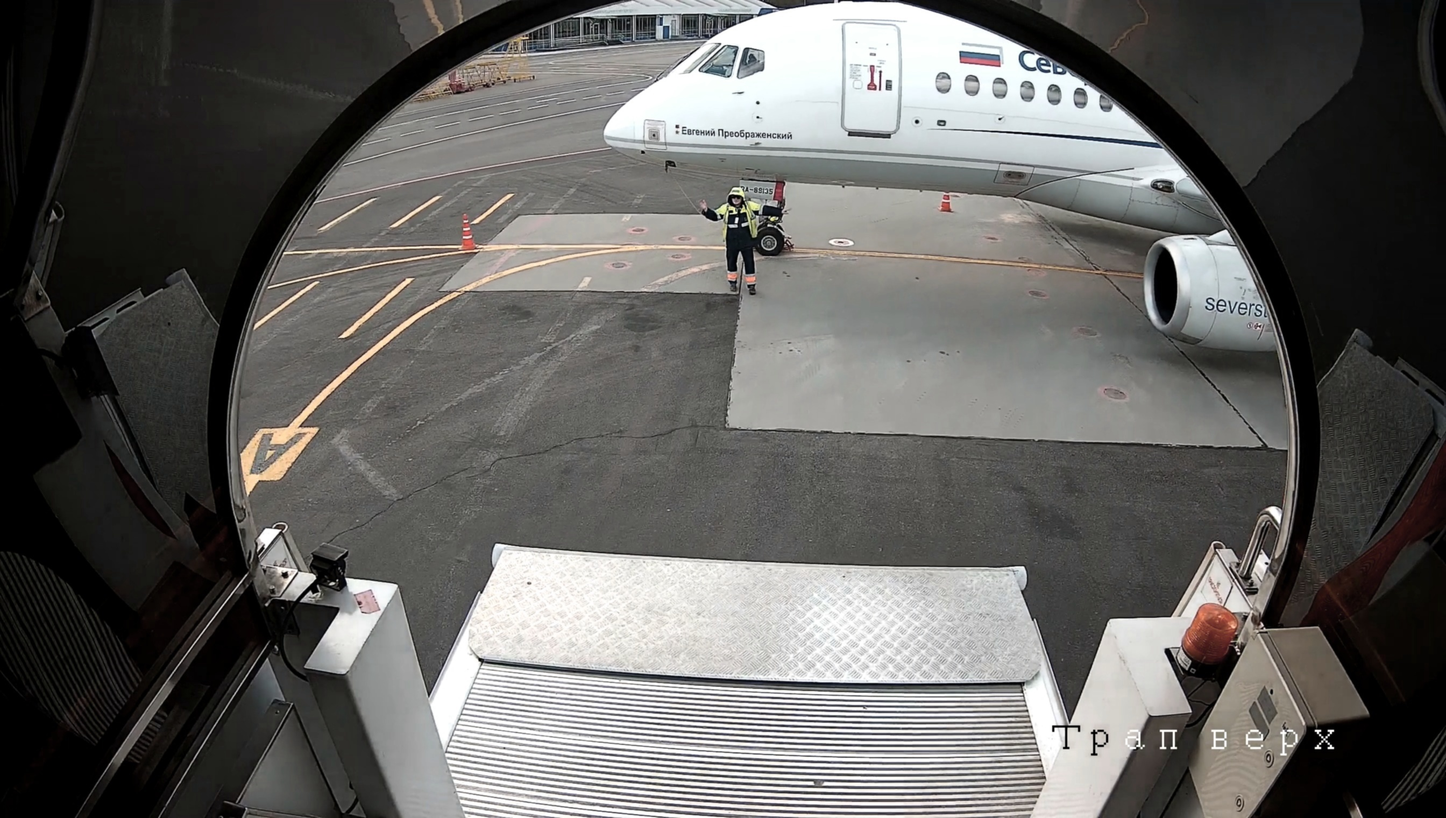boots: (783, 233, 798, 254)
wheels: (756, 225, 785, 259)
